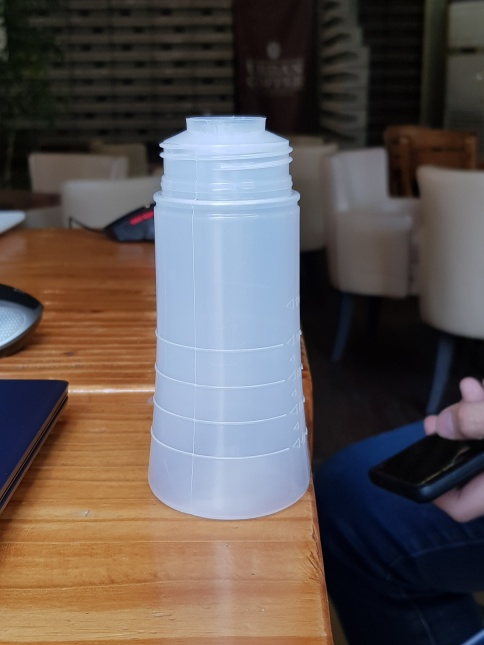Plastic: (143, 108, 316, 518)
